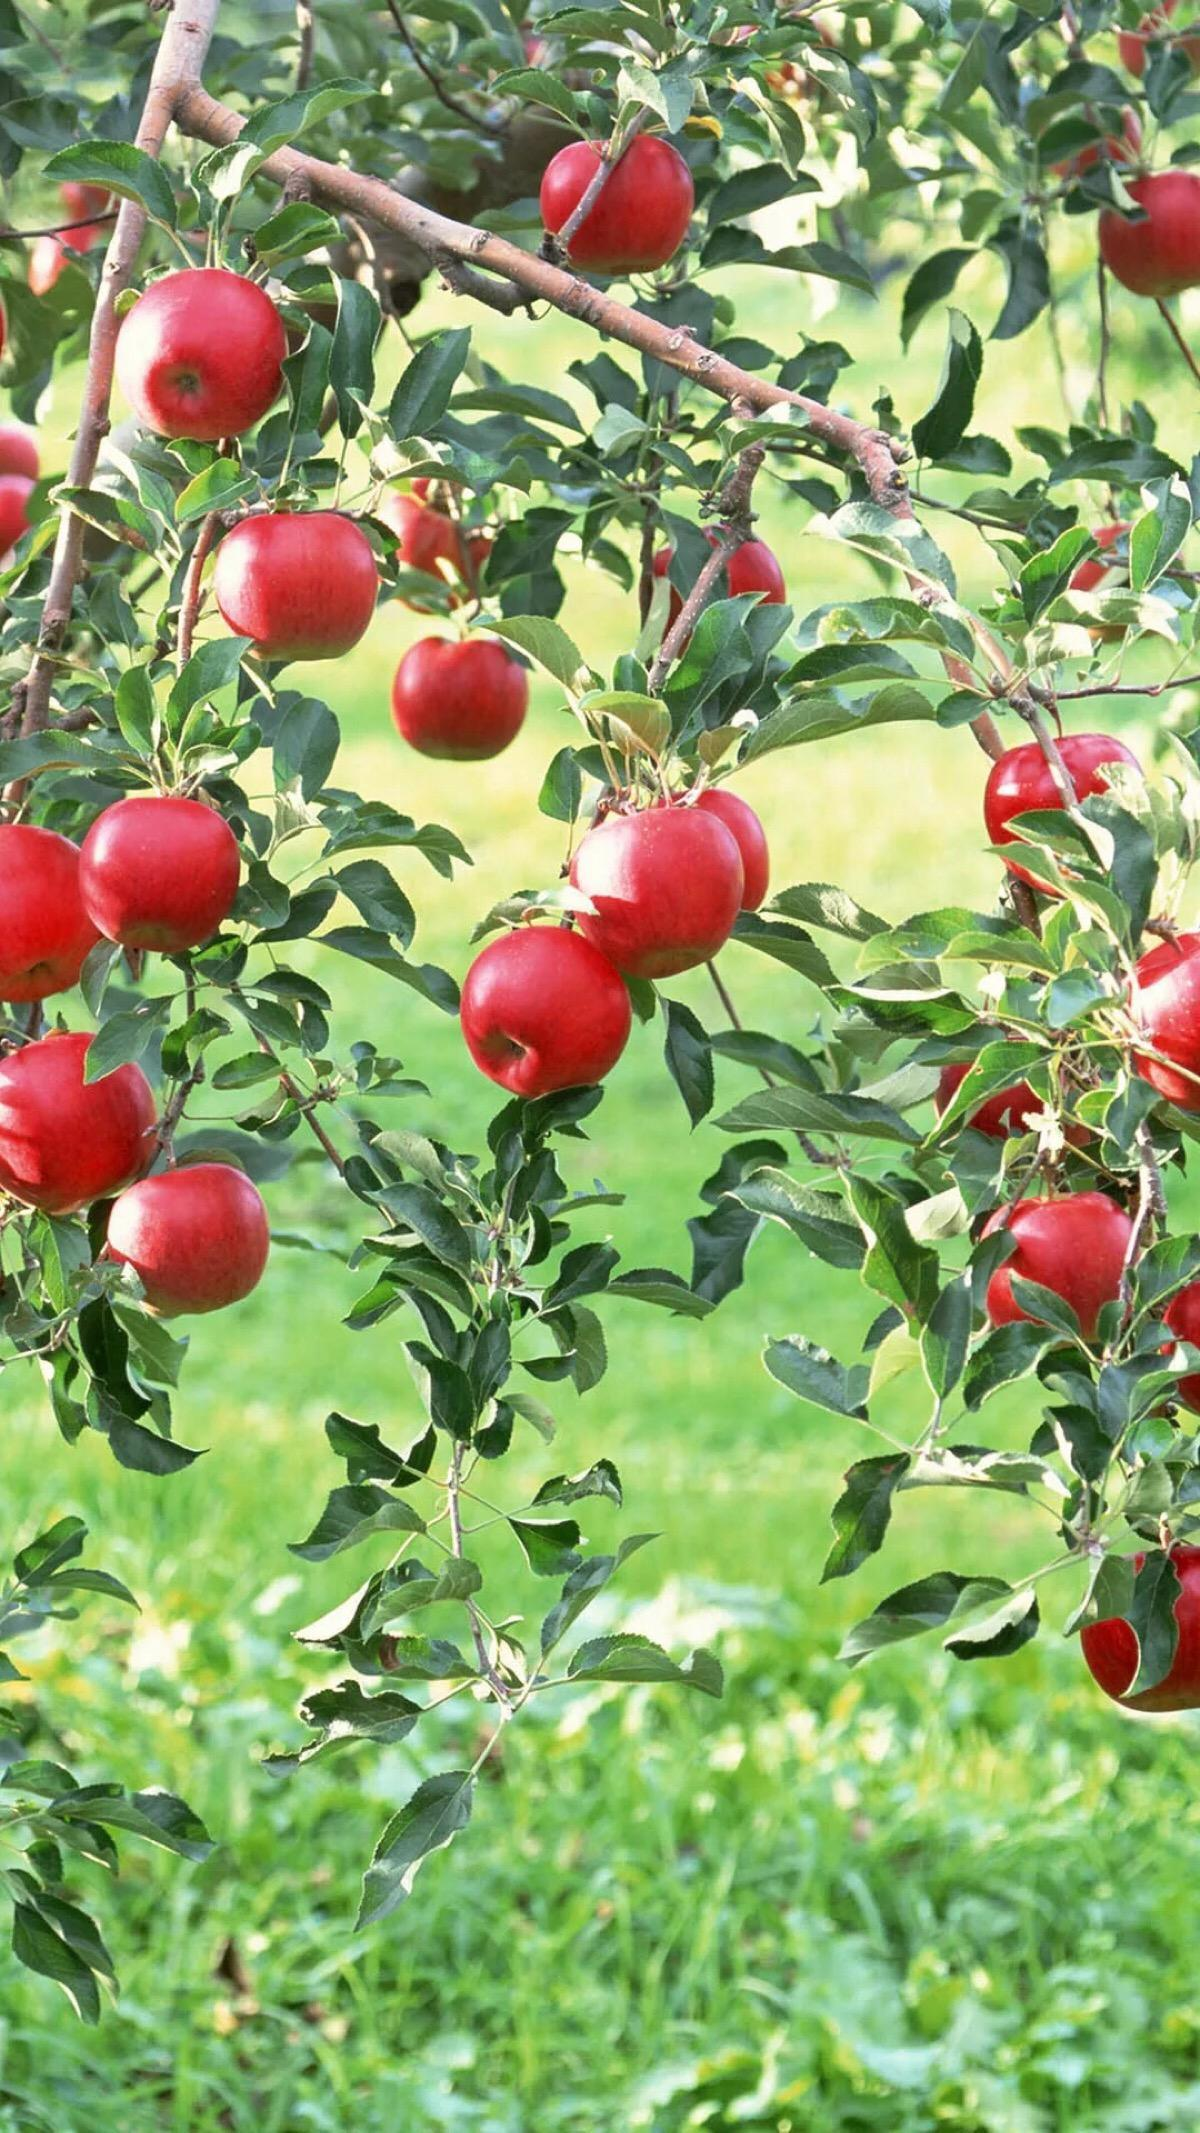apple: (89, 270, 292, 454), (459, 921, 634, 1099), (568, 798, 749, 971), (196, 511, 387, 665), (1, 1034, 164, 1206), (103, 1162, 274, 1321), (75, 798, 242, 960), (974, 1198, 1138, 1343), (541, 133, 695, 275), (1078, 1543, 1200, 1718), (388, 634, 532, 768), (1, 825, 105, 1006), (982, 741, 1149, 854), (1125, 935, 1200, 1121), (1096, 173, 1200, 305), (725, 541, 790, 609)
